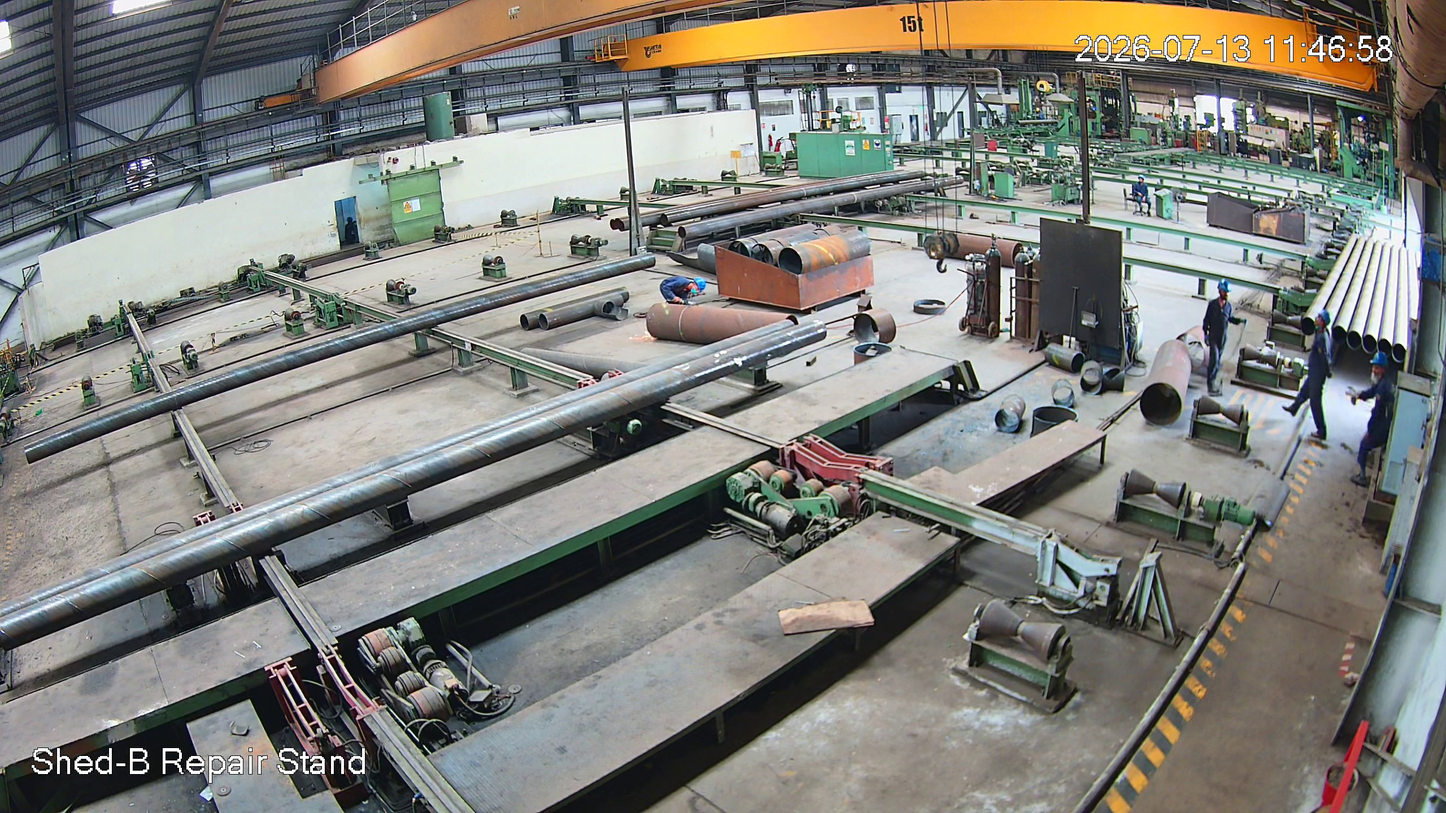Helmet: (1366, 350, 1391, 386), (1216, 278, 1236, 304), (1314, 309, 1334, 335), (688, 276, 707, 296)
Person: (1294, 310, 1335, 440), (1356, 352, 1393, 467), (1202, 279, 1235, 392), (657, 277, 707, 311)
